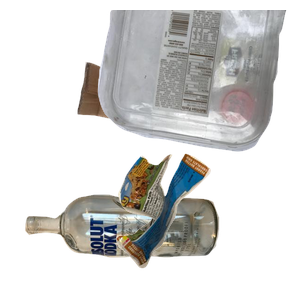cardboard: (75, 59, 237, 176)
glass: (22, 192, 234, 300)
plastic: (95, 10, 300, 154)
trash: (114, 151, 300, 300)
